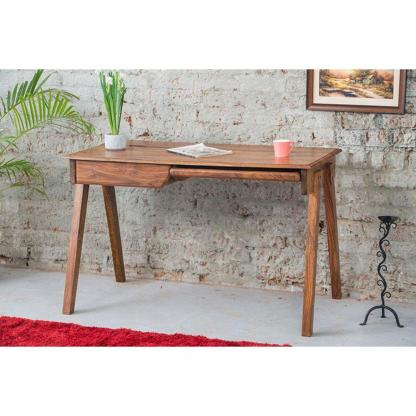Table: (48, 132, 357, 340)
